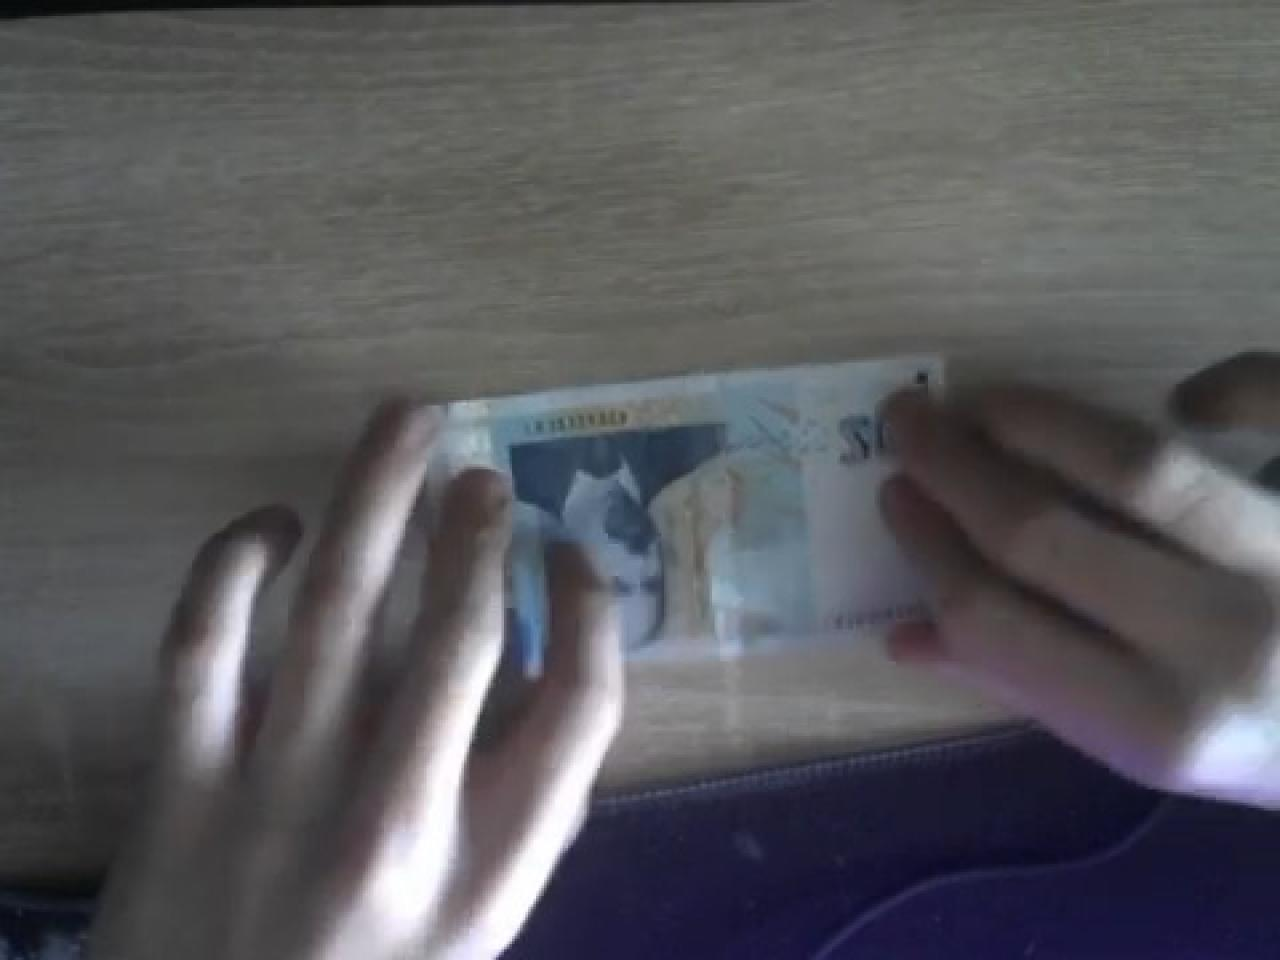20leva: (440, 355, 941, 658)
